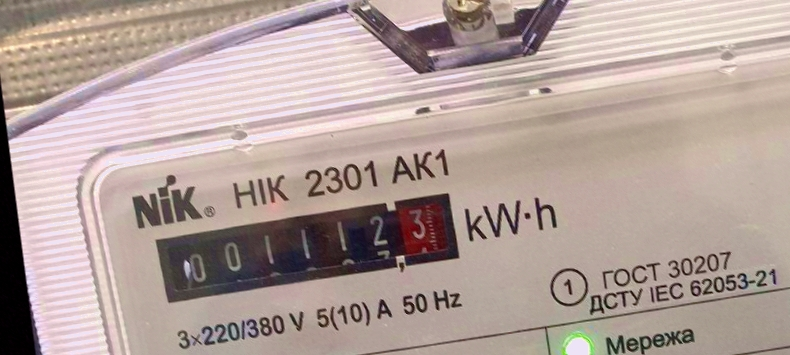0: (219, 235, 246, 276), (184, 247, 211, 284)
1: (257, 228, 280, 268), (295, 222, 314, 262), (332, 216, 351, 254)
2: (365, 210, 392, 249)
3: (406, 205, 428, 242)
screen: (147, 187, 468, 307)
